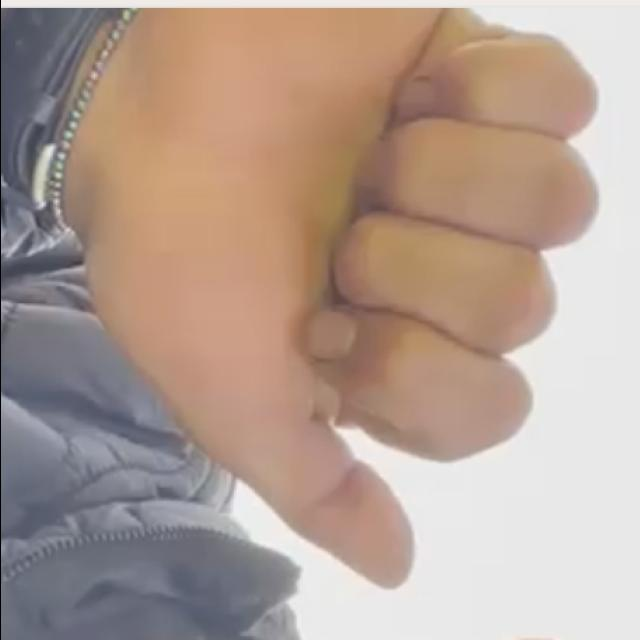A: (78, 7, 612, 600)
